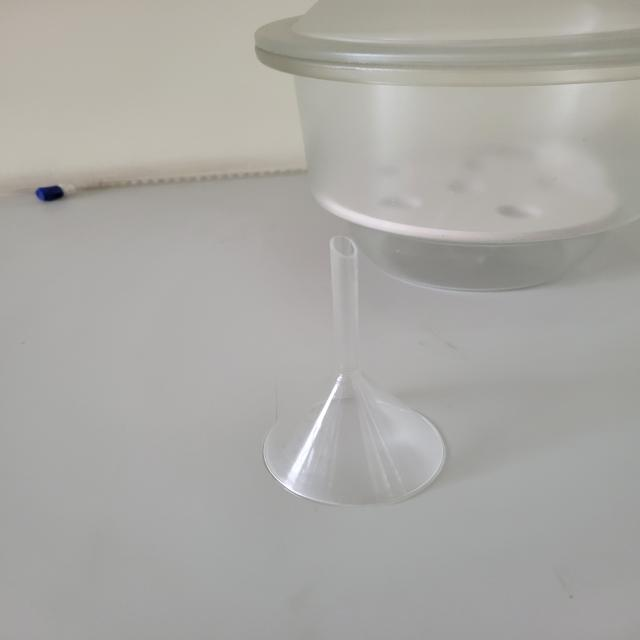Funnel: (231, 205, 472, 520)
